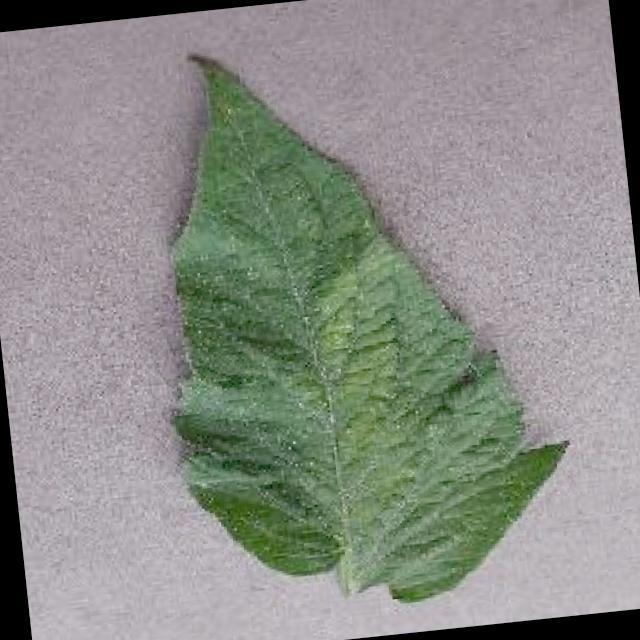Tomato spider mites leaf: (132, 8, 588, 626)
